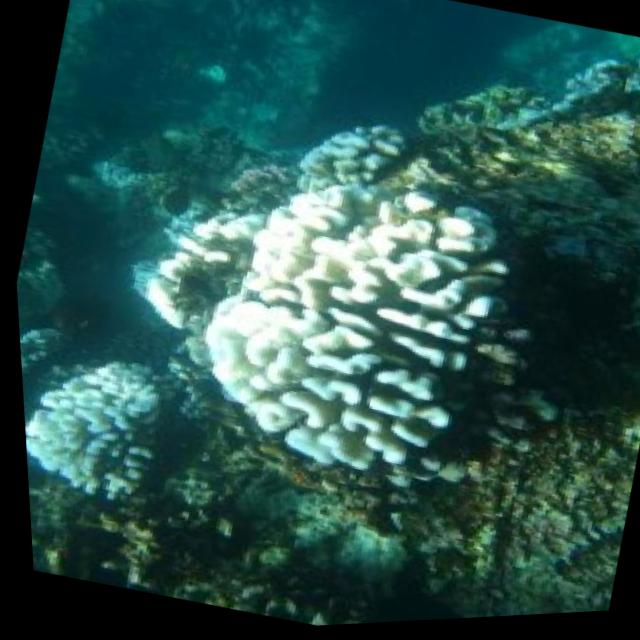Bleached Coral: (74, 108, 539, 574), (9, 192, 243, 548)
